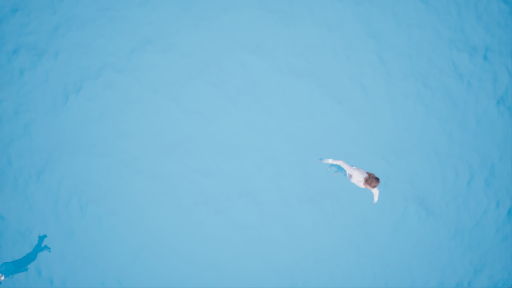person: (319, 156, 392, 204)
